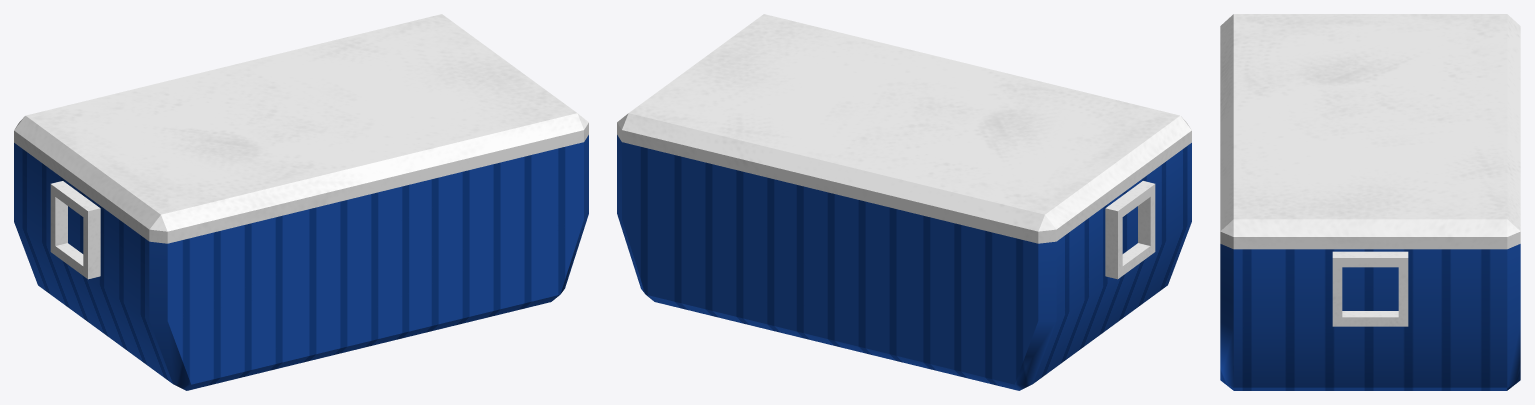
Rendered from Cooler.fbx.
3 views of the same model, side by side, from view 1: azimuth 30°, elevation 25°; view 2: azimuth 150°, elevation 25°; view 3: azimuth 270°, elevation 25° (orthographic).
Parts seen in each view (by area): view 1: Cooler; view 2: Cooler; view 3: Cooler.
Part boxes in pixels (x1,y1,x2,y2): Cooler: (14,14,588,390); Cooler: (617,14,1191,390); Cooler: (1220,14,1520,390).
Bounding box in the file's own units: 87.78 × 32.99 × 48.7.
